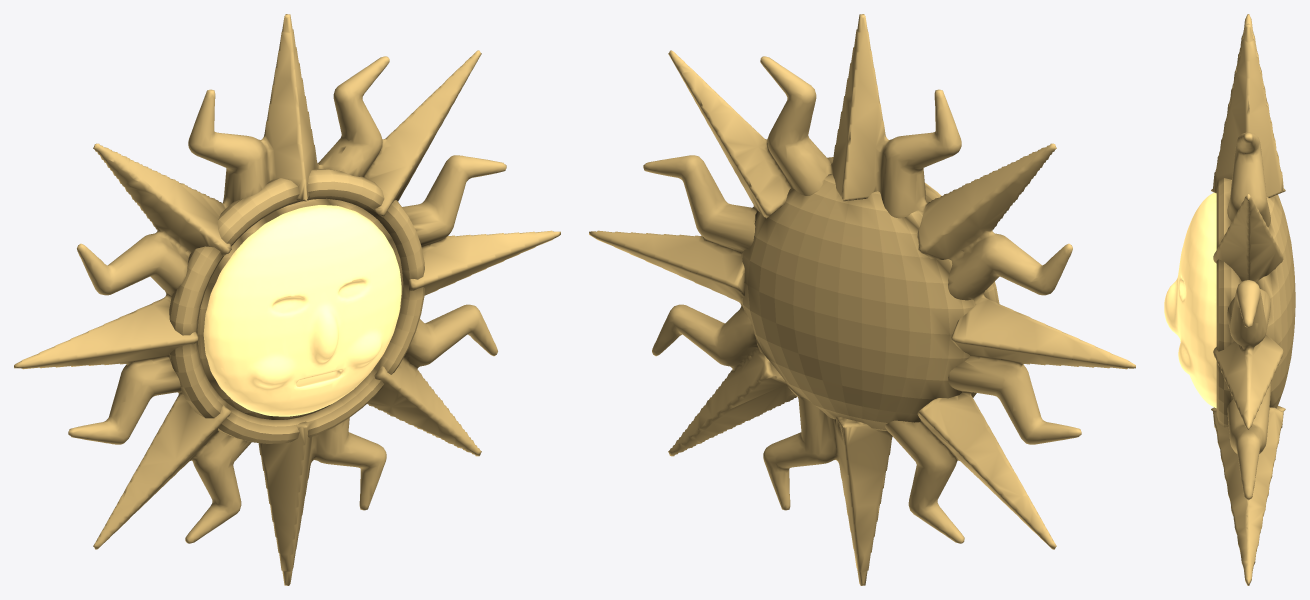
Rendered from emb_sol.glb.
3 renders of one model, left to right at view 1: azimuth 30°, elevation 25°; view 2: azimuth 150°, elevation 25°; view 3: azimuth 270°, elevation 25°, orthographic. The views are drawn at different scales.
Visible parts, largest first — view 1: emb_sol; view 2: emb_sol; view 3: emb_sol.
Boxes of the visible parts, x1=… form: emb_sol: x1=14, y1=14, x2=560, y2=585; emb_sol: x1=589, y1=14, x2=1135, y2=585; emb_sol: x1=1164, y1=14, x2=1295, y2=585.
Size of the model in its own units: 0.144 by 0.1434 by 0.0311.
